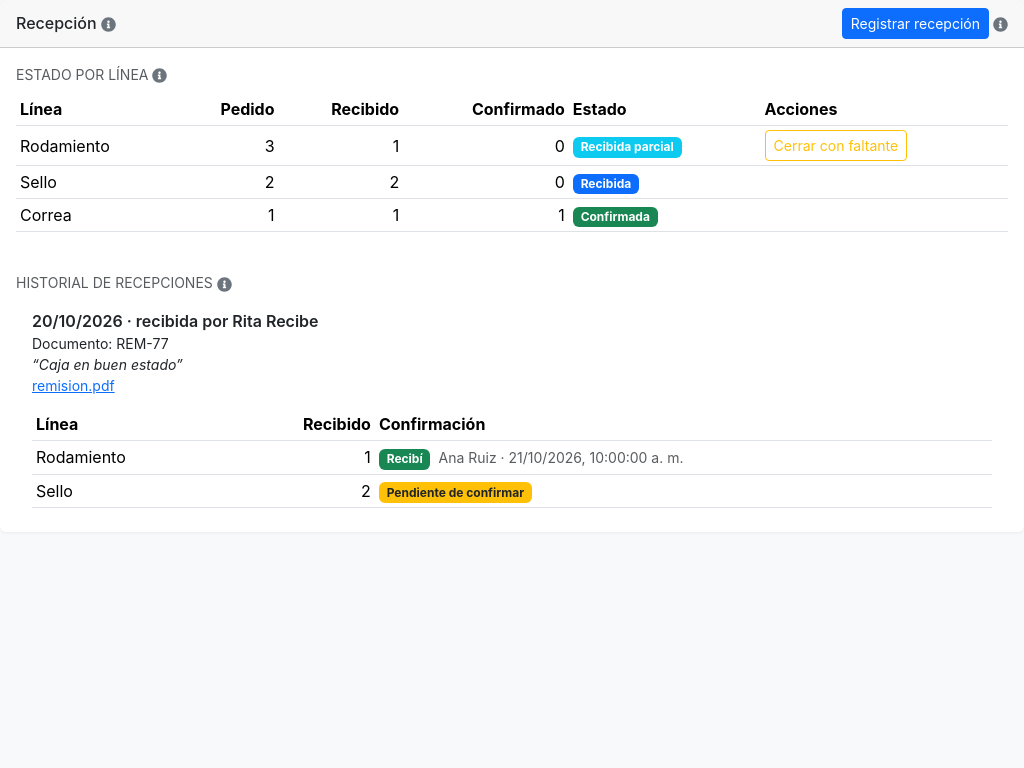
it: RegistrarRecepcionModal (through the panel) › lists only the lines with a pending quantity, with today as the default date
Click the button "Registrar recepción".
click(915, 24)  # box x1=842 y1=8 x2=989 y2=39
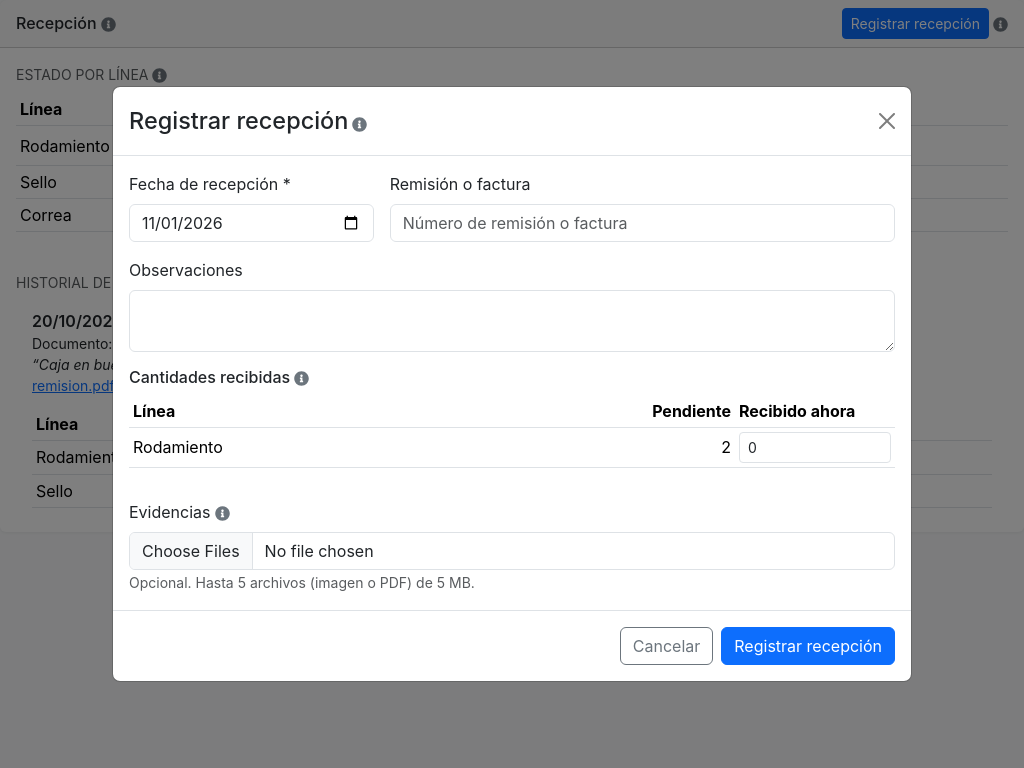
Now the number field named "Cantidad recibida de Rodamiento" is shown, box x1=739 y1=432 x2=891 y2=463
